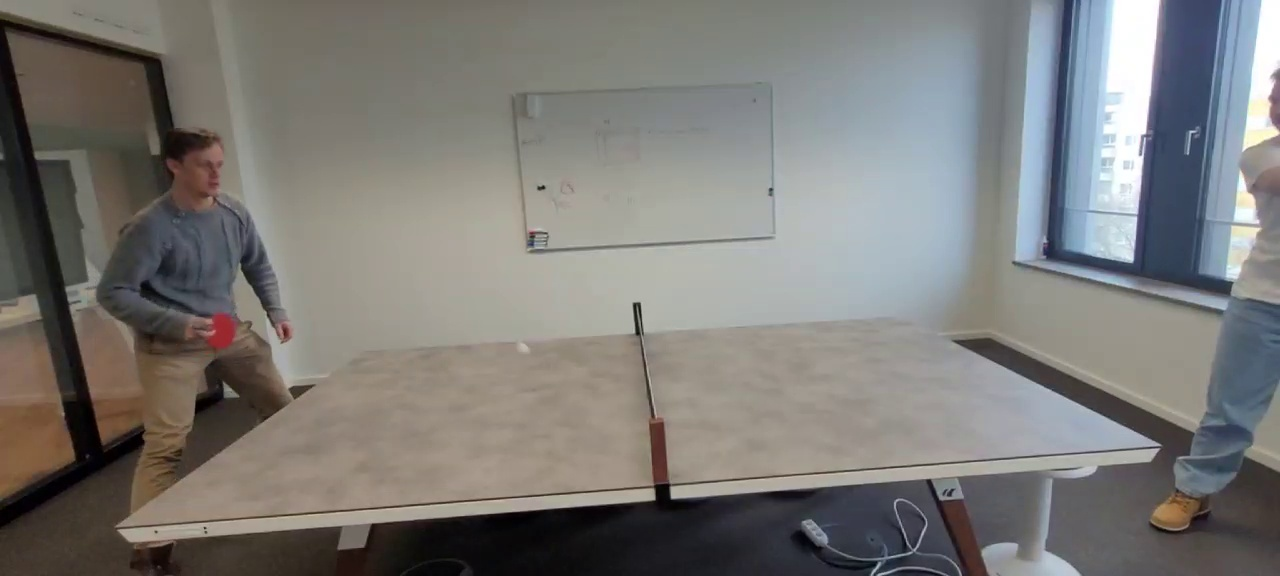1: (193, 315, 234, 347)
2: (517, 339, 530, 354)
ttplatte: (116, 317, 1160, 528)
